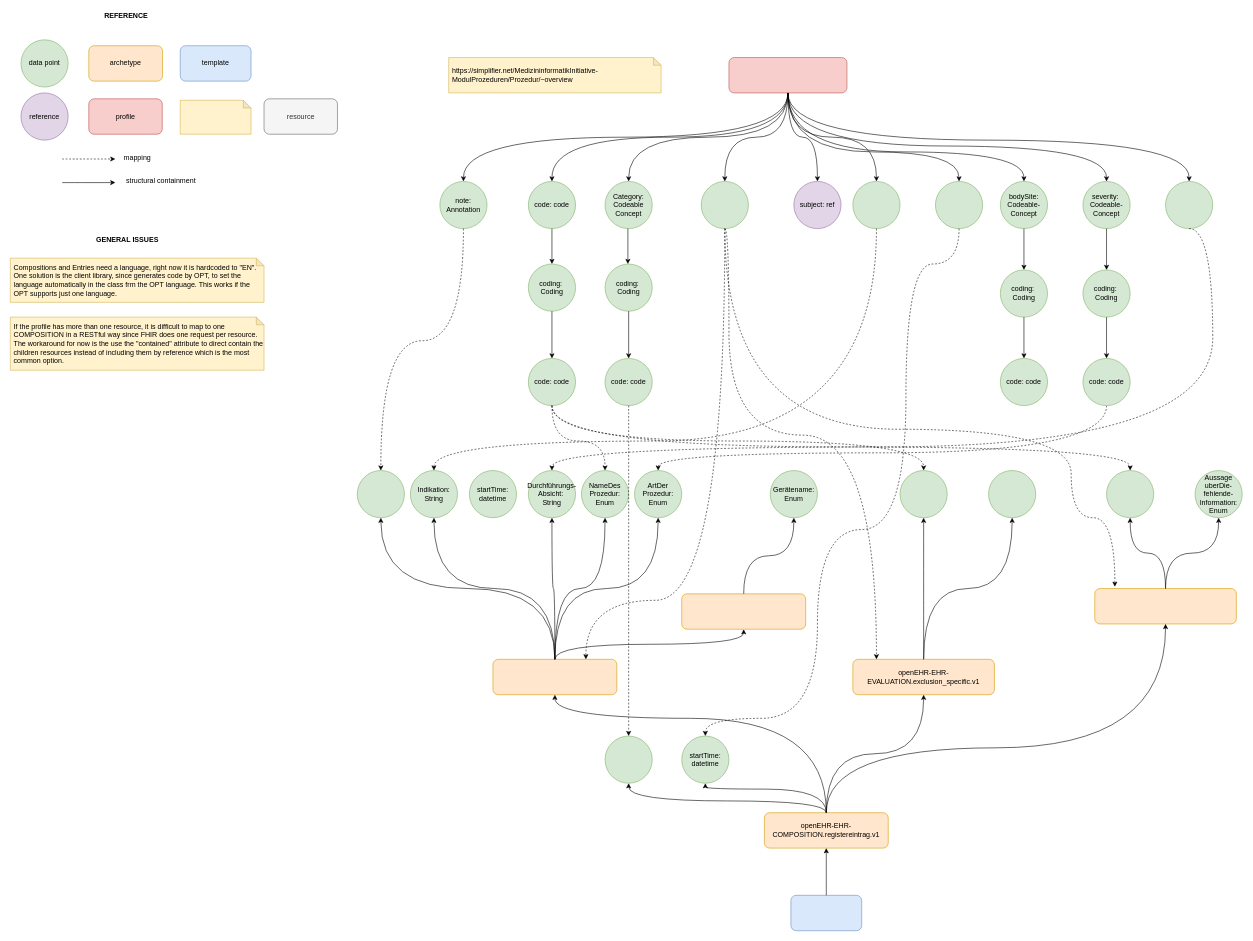
This 1253x941 diagram has some shape labels left out. Here are the shapes that lost their labels. From the top down, the box of each, then its label:
(728, 57, 847, 93): Therapie - Procedure
(180, 100, 251, 134): note
(701, 181, 748, 229): status: code
(852, 181, 900, 229): onsetDateTime: dateTime
(935, 181, 983, 229): recordedDate time: datetime
(1165, 181, 1213, 229): abatementDate TimeType: datetime
(357, 470, 404, 518): kommentar: string
(899, 470, 947, 518): Eingriff: Enum
(988, 470, 1036, 518): AussageUber-denAusschluss: Enum
(1106, 470, 1154, 518): Unbekannte Prozedur: Enum
(681, 593, 806, 629): openEHR-EHR-CLUSTER.device.v1
(1094, 588, 1236, 624): openEHR-EHR-EVALUATION.absence.v2
(492, 659, 617, 695): openEHR-EHR-ACTION.procedure.v1
(604, 735, 652, 783): kategorie: Enum
(790, 895, 862, 931): GECCO-Diagnose
